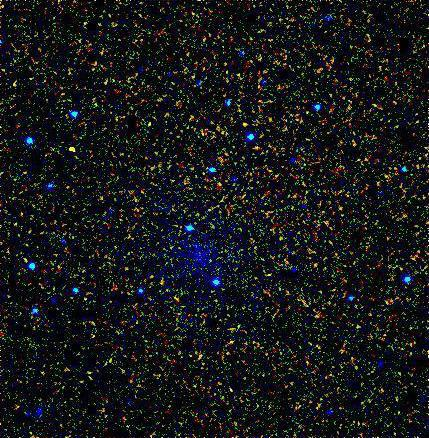star: (57, 134, 87, 164)
